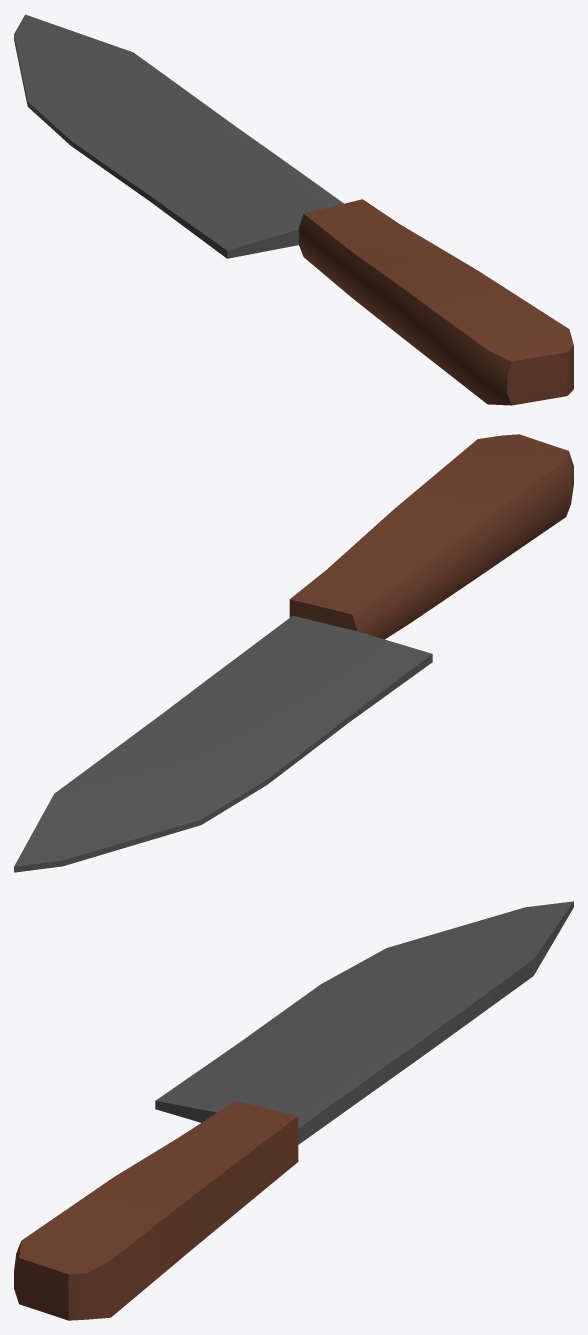
Rendered from BigKnife.FBX.
3 renders of one model, top to bottom at view 1: azimuth 30°, elevation 25°; view 2: azimuth 150°, elevation 25°; view 3: azimuth 330°, elevation 25°, orthographic. The views are drawn at different scales.
Parts seen in each view (by area): view 1: Kitchen_knife_big_01; view 2: Kitchen_knife_big_01; view 3: Kitchen_knife_big_01.
Boxes of the visible parts, x1,y1,x2,y2 form: Kitchen_knife_big_01: (14,14,573,405); Kitchen_knife_big_01: (14,434,573,872); Kitchen_knife_big_01: (14,901,573,1320).
Bounding box in the file's own units: 2.85 × 16.84 × 0.9885.
